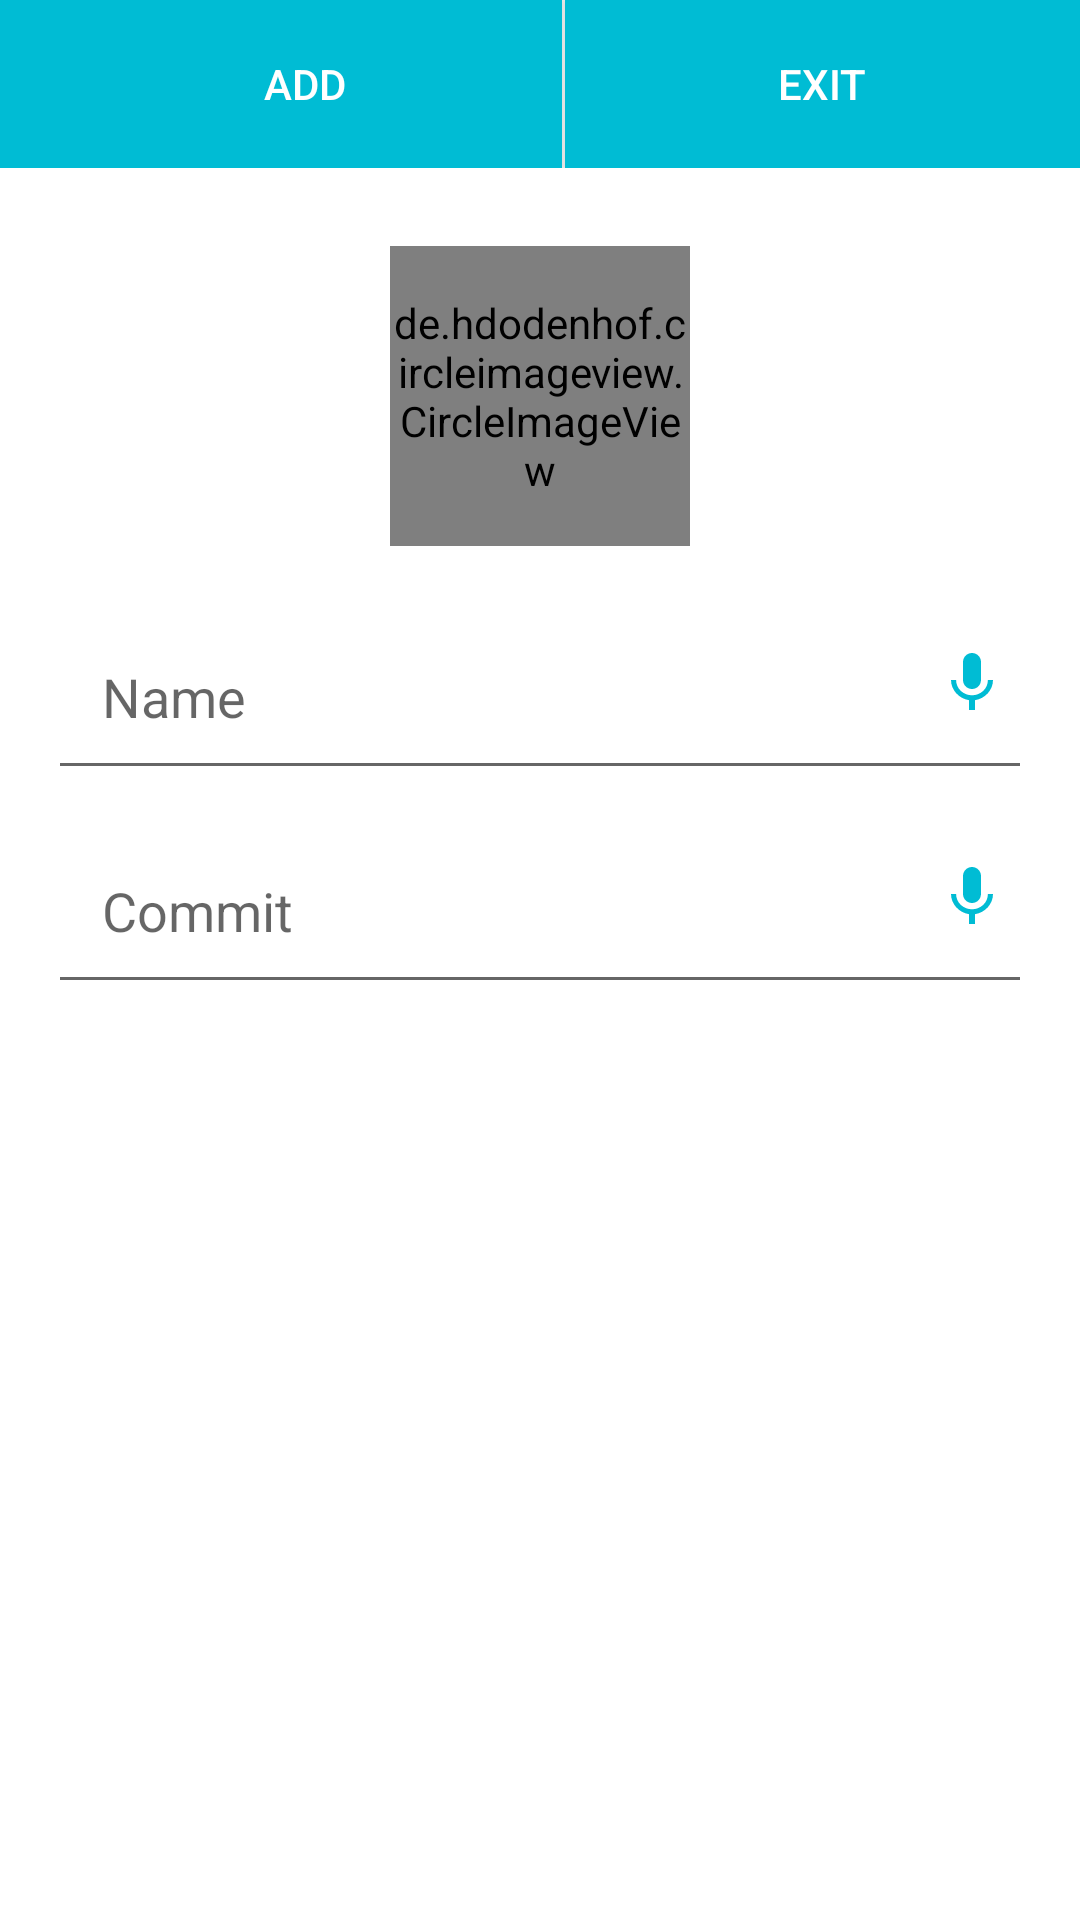

Locate icon controls on the screen. Image size 1080px x 1920px, boxes as BBox(x1, y1, x2, y2).
mic: BBox(951, 653, 993, 710), BBox(951, 867, 993, 924)
